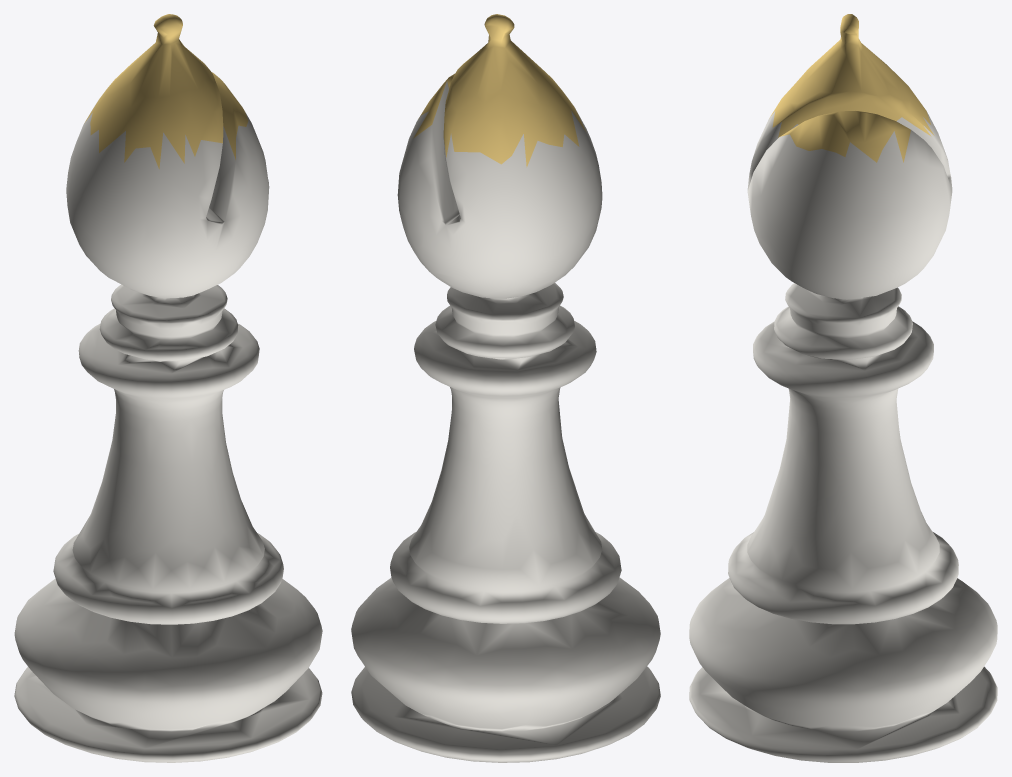
File: gercek7_b_w.glb
3 renders of one model, left to right at view 1: azimuth 30°, elevation 25°; view 2: azimuth 150°, elevation 25°; view 3: azimuth 270°, elevation 25°, orthographic.
Visible parts, largest first — view 1: b_w; view 2: b_w; view 3: b_w.
Boxes of the visible parts, <box> form: b_w: <box>14,14,322,762</box>; b_w: <box>351,14,660,762</box>; b_w: <box>689,14,997,762</box>.
Bounding box in the file's own units: 0.3622 × 0.8991 × 0.3618.
